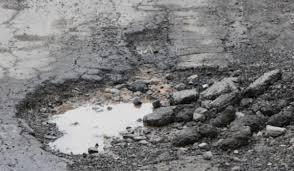alligator-crack: (0, 1, 119, 78)
pothole: (16, 74, 157, 160), (124, 15, 181, 74)
